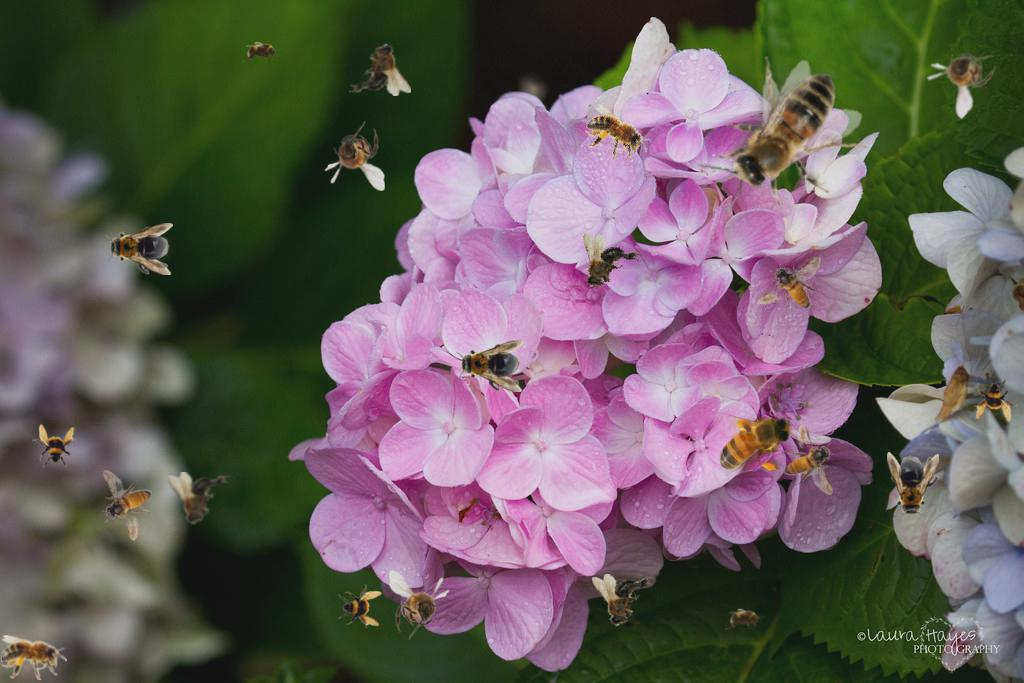Bee: (692, 49, 877, 229), (916, 27, 1009, 121), (706, 408, 799, 476), (567, 229, 644, 301), (578, 102, 658, 171), (750, 255, 832, 320), (389, 570, 450, 640), (324, 121, 385, 191), (102, 470, 152, 541), (784, 424, 834, 495), (456, 340, 524, 392), (887, 452, 939, 520), (105, 223, 173, 275), (349, 43, 411, 96), (168, 472, 230, 525), (592, 574, 654, 627), (1, 635, 67, 680), (32, 424, 76, 468), (338, 584, 382, 628), (974, 378, 1018, 422), (242, 41, 282, 63), (725, 608, 765, 630)
